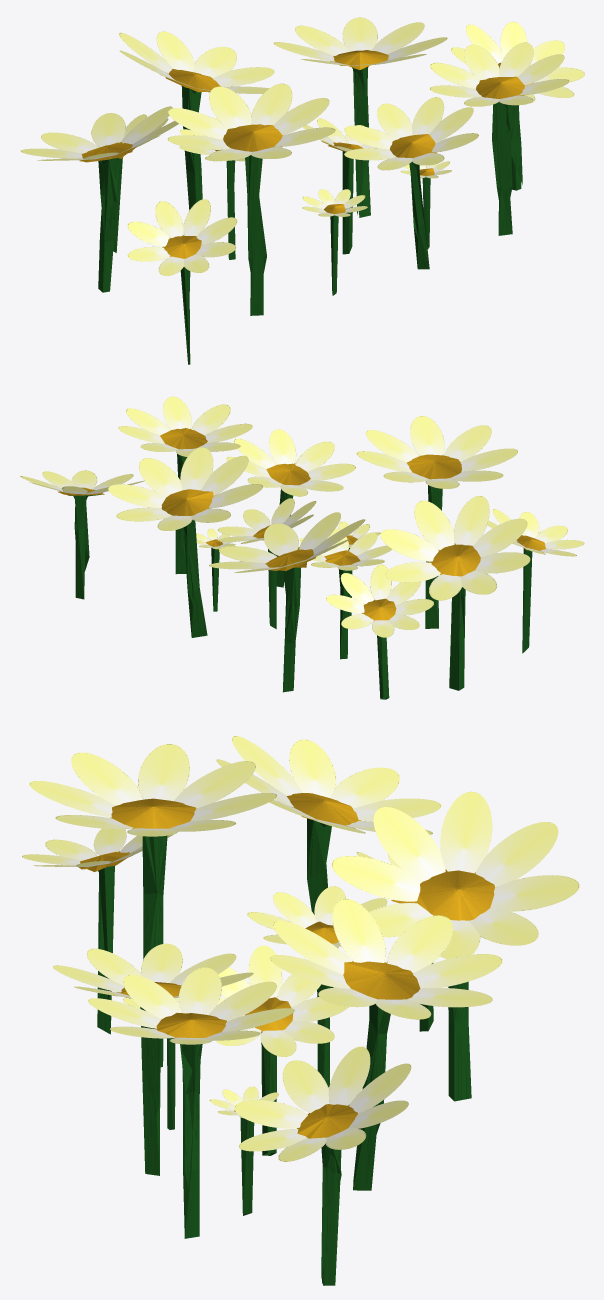
The model's file is flowers.fbx.
3 views of the same model, one above another, from view 1: azimuth 30°, elevation 25°; view 2: azimuth 150°, elevation 25°; view 3: azimuth 270°, elevation 25° (orthographic). The views are drawn at different scales.
Parts seen in each view (by area): view 1: Flowers#2, Flowers#3, Flowers#4; view 2: Flowers#2, Flowers#3; view 3: Flowers#2, Flowers#3.
Part boxes in pixels (left/top/right/bottom): Flowers#2: left=20, top=17, right=584, bottom=364; Flowers#3: left=81, top=50, right=533, bottom=272; Flowers#4: left=204, top=89, right=522, bottom=184; Flowers#2: left=20, top=396, right=584, bottom=699; Flowers#3: left=66, top=428, right=543, bottom=680; Flowers#2: left=22, top=736, right=579, bottom=1285; Flowers#3: left=87, top=795, right=494, bottom=1278.
Size of the model in its own units: 1.18 by 0.4438 by 0.7565.
2 materials, 2 textured.
